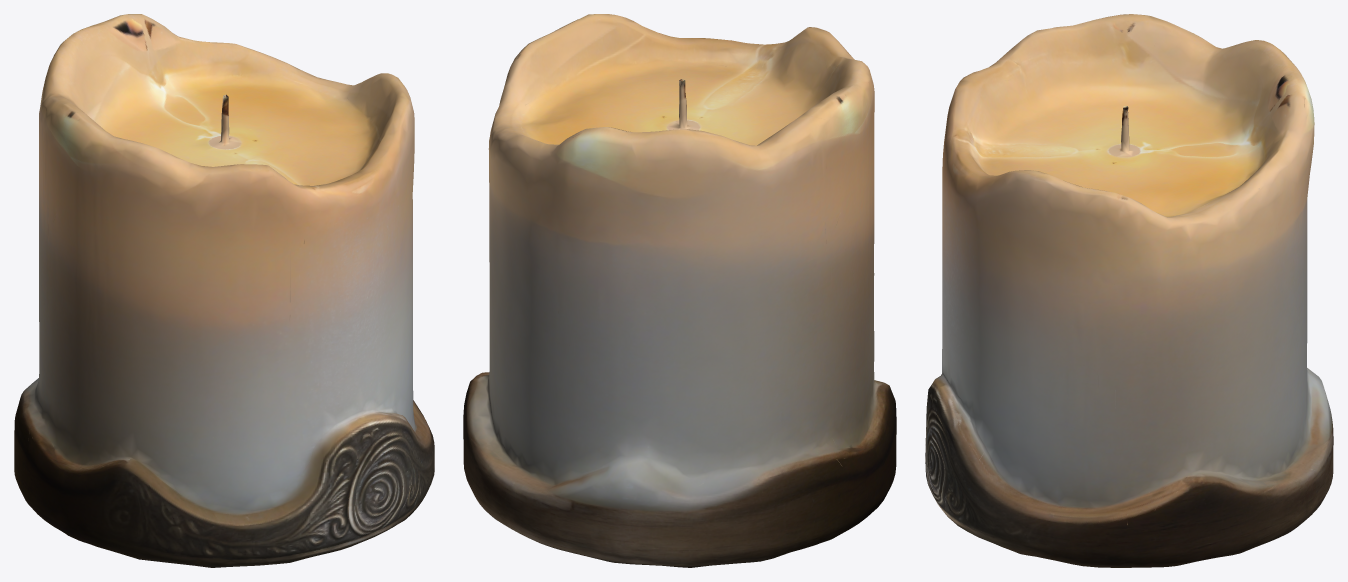
Rendered from candle.glb.
The picture shows the model from 3 angles, left to right: view 1: azimuth 30°, elevation 25°; view 2: azimuth 150°, elevation 25°; view 3: azimuth 270°, elevation 25°; orthographic projection. The views are drawn at different scales.
Parts seen in each view (by area): view 1: Mesh_0; view 2: Mesh_0; view 3: Mesh_0.
Boxes of the visible parts, x1=… form: Mesh_0: x1=14, y1=14, x2=434, y2=567; Mesh_0: x1=463, y1=14, x2=896, y2=567; Mesh_0: x1=925, y1=14, x2=1333, y2=567.
Size of the model in its own units: 0.2026 by 0.2262 by 0.2012.
Materials: 1 (1 with a texture image).
